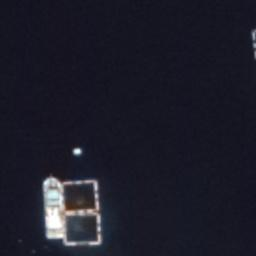square_solid: (58, 209, 108, 249), (56, 176, 103, 217)
